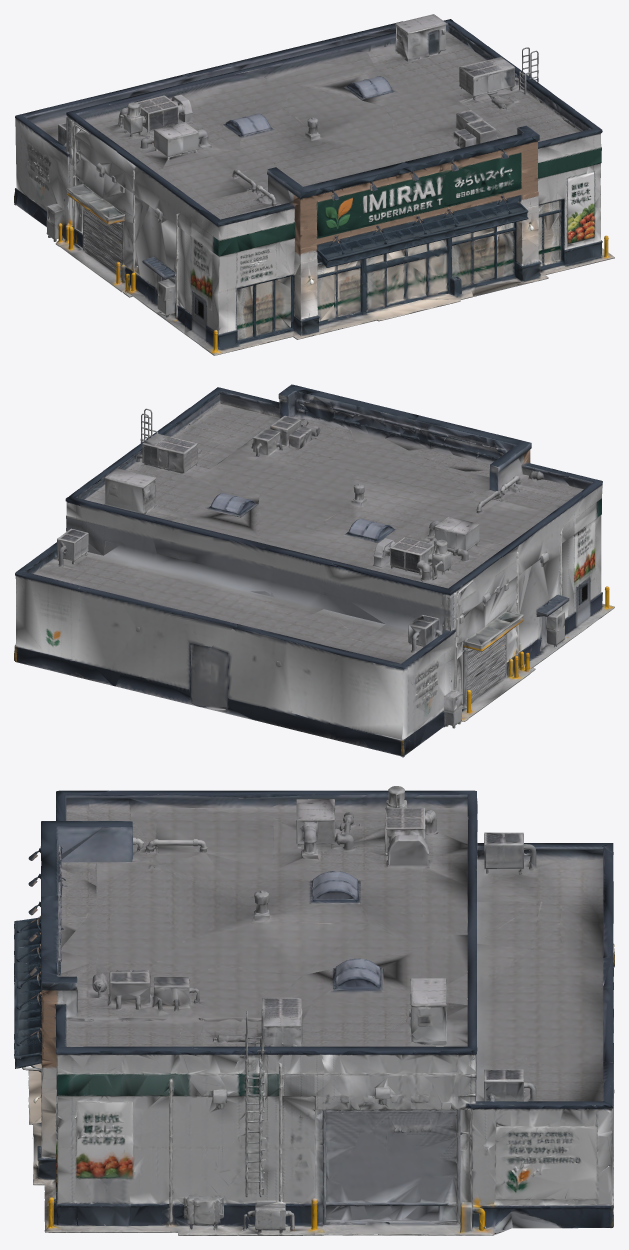
The model's file is building_supermarket_model.glb.
The picture shows the model from 3 angles, top to bottom: view 1: azimuth 30°, elevation 25°; view 2: azimuth 150°, elevation 25°; view 3: azimuth 270°, elevation 25°; orthographic projection. The views are drawn at different scales.
Parts seen in each view (by area): view 1: Mesh_0.001; view 2: Mesh_0.001; view 3: Mesh_0.001.
Boxes of the visible parts, x1,y1,x2,y2 form: Mesh_0.001: [14, 14, 614, 355]; Mesh_0.001: [14, 384, 614, 757]; Mesh_0.001: [14, 786, 614, 1235].
Size of the model in its own units: 15.2 by 5.5 by 13.79.
Materials: 1 (1 with a texture image).
